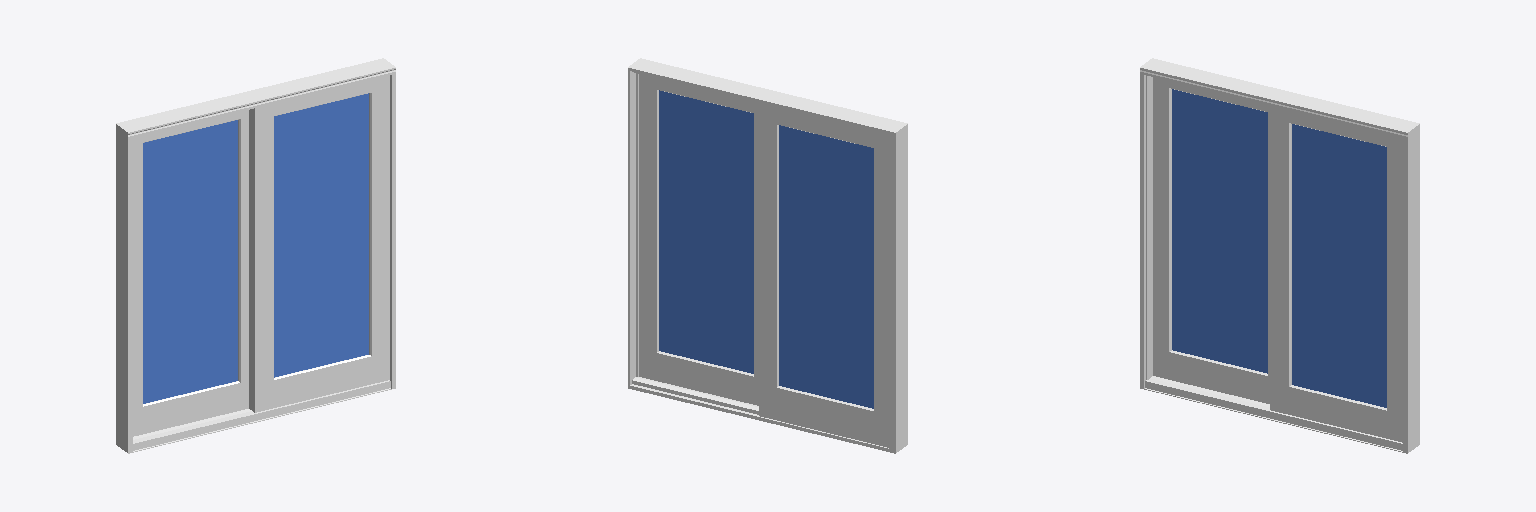
3 renders of one model, left to right at view 1: azimuth 30°, elevation 25°; view 2: azimuth 150°, elevation 25°; view 3: azimuth 330°, elevation 25°, orthographic.
Visible parts, largest first — view 1: SketchUp.001_ID91, SketchUp.011_ID153, SketchUp.009_ID141, SketchUp.006_ID121, SketchUp_ID83.001, SketchUp.007_ID127; view 2: SketchUp.001_ID91, SketchUp.008_ID133, SketchUp.010_ID147, SketchUp.006_ID121, SketchUp.005_ID115, SketchUp.002_ID97.001; view 3: SketchUp.001_ID91, SketchUp.011_ID153, SketchUp.009_ID141, SketchUp.006_ID121, SketchUp_ID83.001, SketchUp.007_ID127.
Boxes of the visible parts, x1,y1,x2,y2 form: SketchUp.001_ID91: [133, 75, 391, 451]; SketchUp.011_ID153: [143, 120, 237, 403]; SketchUp.009_ID141: [274, 93, 368, 377]; SketchUp.006_ID121: [116, 58, 395, 453]; SketchUp_ID83.001: [143, 119, 240, 406]; SketchUp.007_ID127: [274, 93, 371, 379]; SketchUp.001_ID91: [630, 71, 888, 448]; SketchUp.008_ID133: [659, 90, 753, 373]; SketchUp.010_ID147: [779, 125, 873, 408]; SketchUp.006_ID121: [628, 58, 907, 453]; SketchUp.005_ID115: [657, 90, 753, 376]; SketchUp.002_ID97.001: [777, 125, 873, 410]; SketchUp.001_ID91: [1144, 75, 1402, 451]; SketchUp.011_ID153: [1172, 89, 1267, 373]; SketchUp.009_ID141: [1292, 124, 1386, 407]; SketchUp.006_ID121: [1140, 58, 1419, 453]; SketchUp_ID83.001: [1169, 88, 1267, 375]; SketchUp.007_ID127: [1289, 123, 1386, 410].
Bounding box in the file's own units: 6.06 × 6.94 × 0.4987.